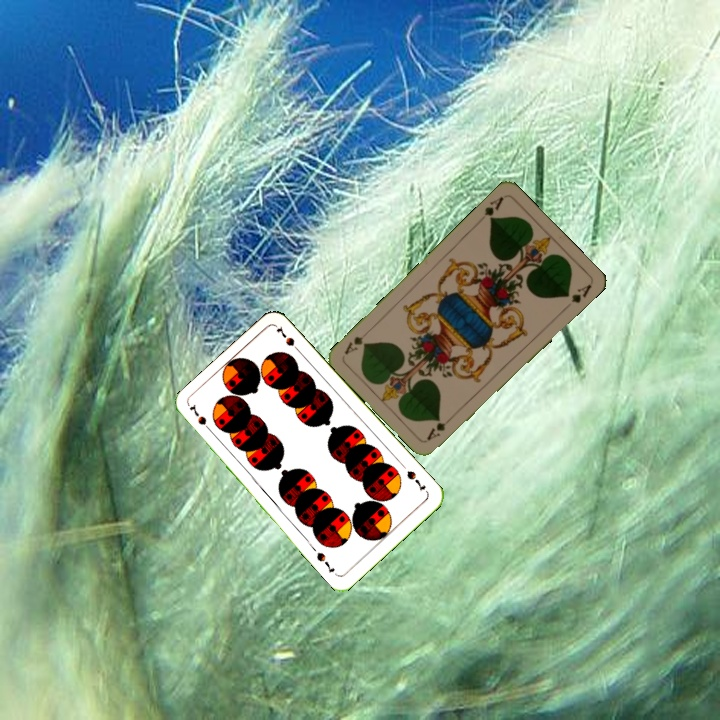GA: (480, 192, 507, 224), (423, 418, 448, 443)
S7: (185, 401, 216, 436), (403, 467, 428, 493)
